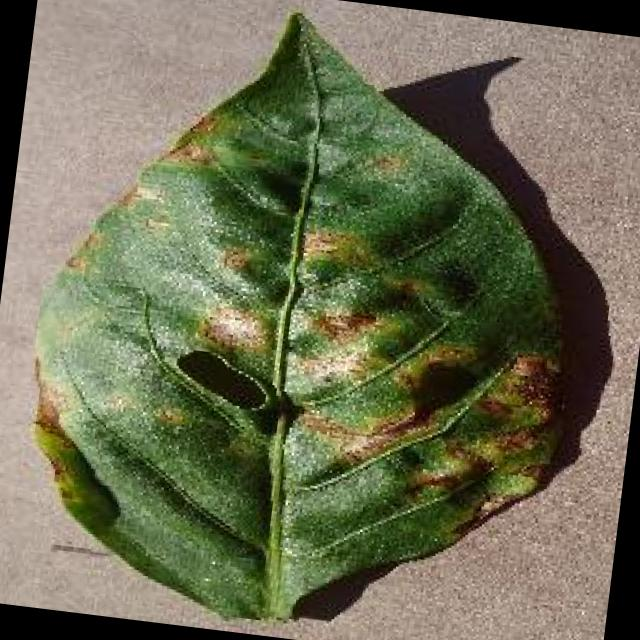Chilli_Bacterial_Spot: (0, 0, 612, 640), (155, 205, 573, 526), (396, 334, 566, 522), (394, 333, 491, 426), (167, 342, 276, 417), (193, 298, 274, 359), (292, 222, 378, 276), (305, 296, 385, 350), (358, 144, 412, 182), (145, 398, 191, 434), (215, 240, 254, 276)
